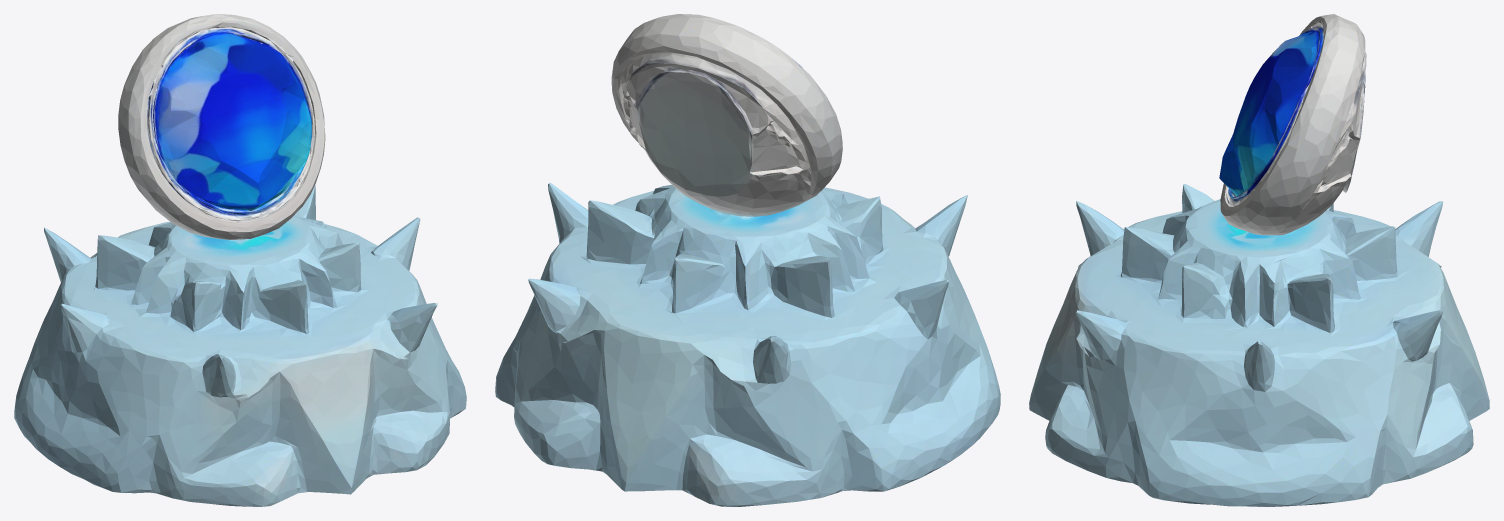
The model's file is gem.glb.
3 views of the same model, side by side, from view 1: azimuth 30°, elevation 25°; view 2: azimuth 150°, elevation 25°; view 3: azimuth 270°, elevation 25° (orthographic). The views are drawn at different scales.
Parts seen in each view (by area): view 1: geometry_0; view 2: geometry_0; view 3: geometry_0.
Boxes of the visible parts, left/top/right/bottom form: geometry_0: left=14, top=14, right=466, bottom=506; geometry_0: left=495, top=14, right=1000, bottom=506; geometry_0: left=1029, top=14, right=1489, bottom=506.
Bounding box in the file's own units: 1 × 0.9229 × 1.
Materials: 1 (1 with a texture image).
